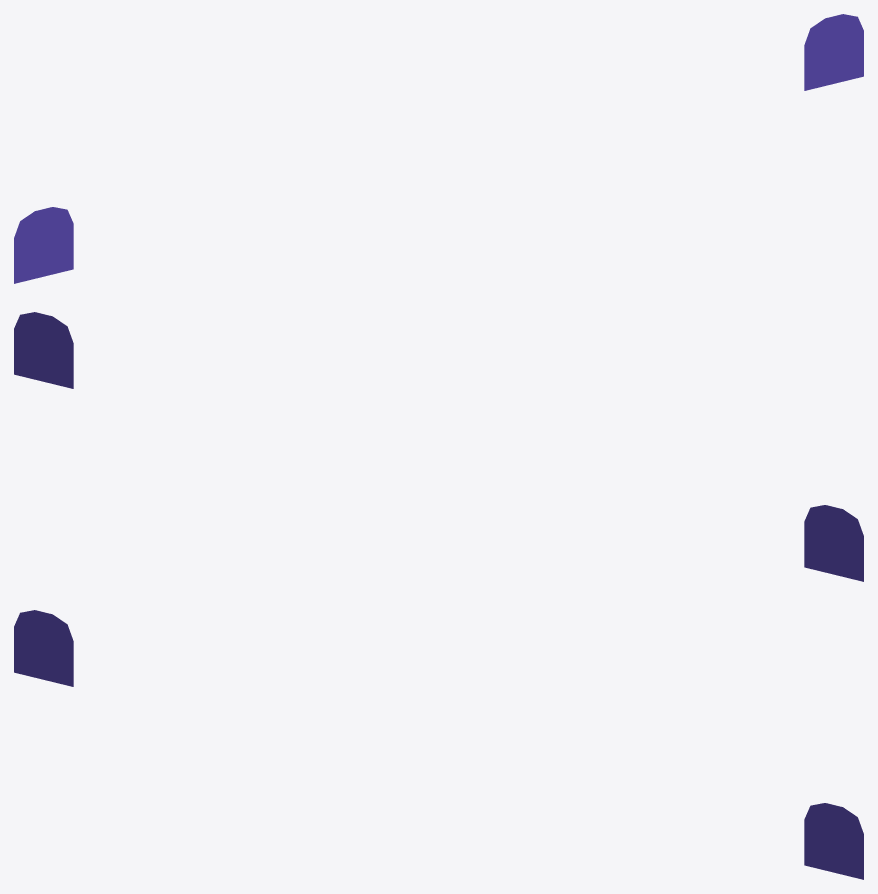
Rendered from fill_road.fbx.
3 renders of one model, top to bottom at view 1: azimuth 30°, elevation 25°; view 2: azimuth 150°, elevation 25°; view 3: azimuth 330°, elevation 25°, orthographic.
Visible parts, largest first — view 1: fill_road; view 2: fill_road; view 3: fill_road.
Boxes of the visible parts, x1=… form: fill_road: x1=14, y1=14, x2=863, y2=283; fill_road: x1=14, y1=312, x2=863, y2=581; fill_road: x1=14, y1=610, x2=863, y2=879.
Size of the model in its own units: 2629 by 200 by 0.
